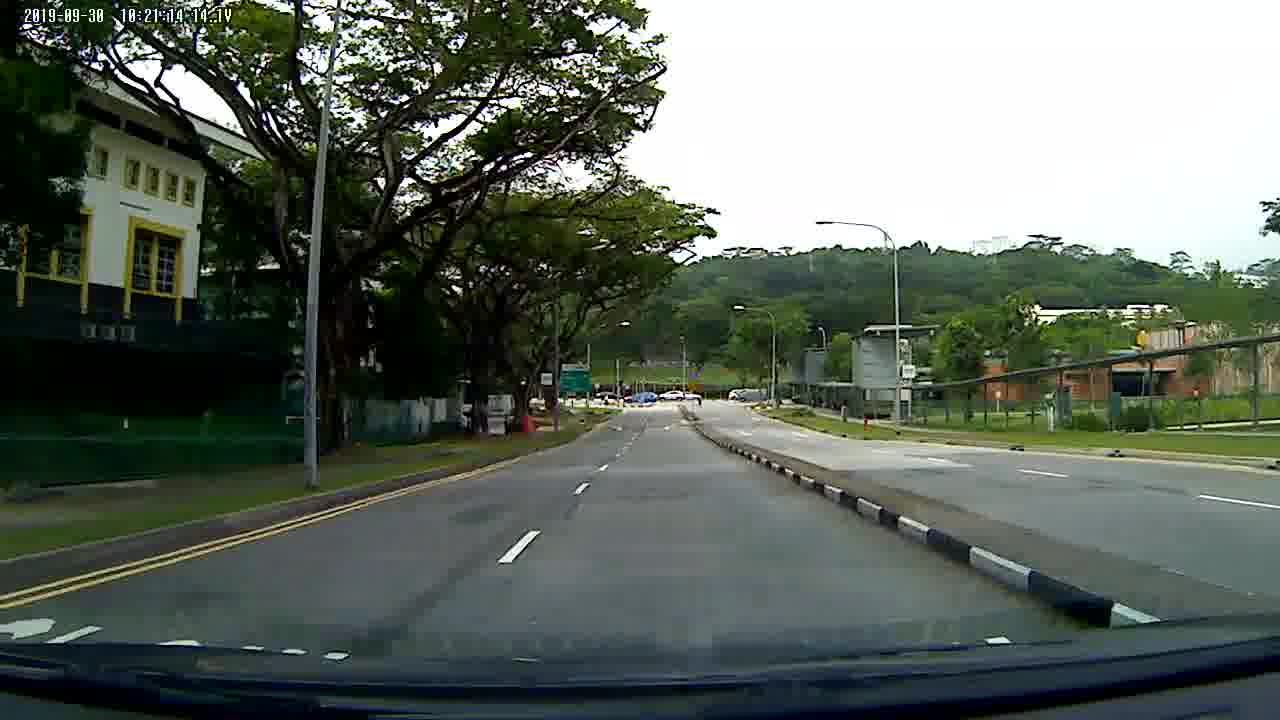car: (661, 390, 685, 403)
